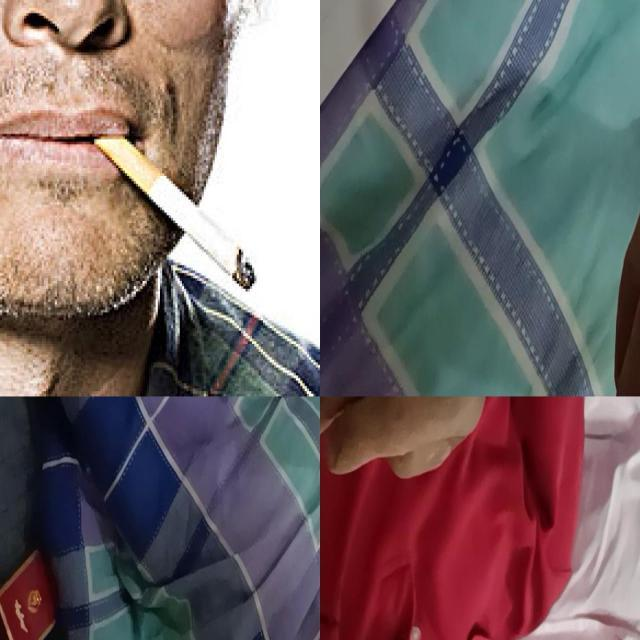smoking: (95, 125, 258, 293)
